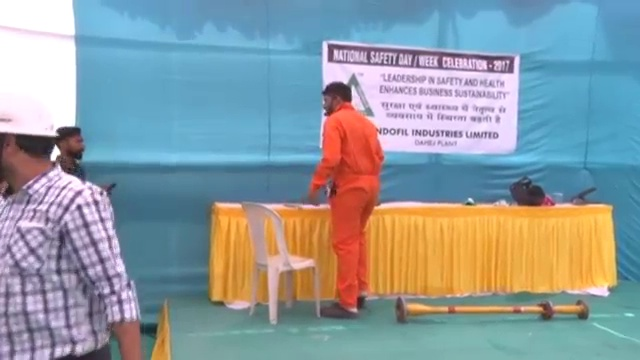helmet: (1, 91, 59, 140)
helmet_off: (322, 81, 354, 116), (56, 126, 85, 163)
helmet_on: (1, 91, 58, 189)
person: (1, 87, 144, 360), (308, 81, 386, 319), (52, 123, 92, 186)
